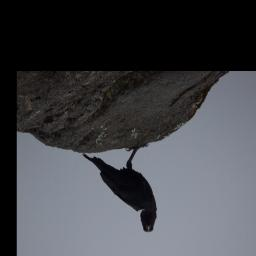Crow: (82, 145, 158, 234)
